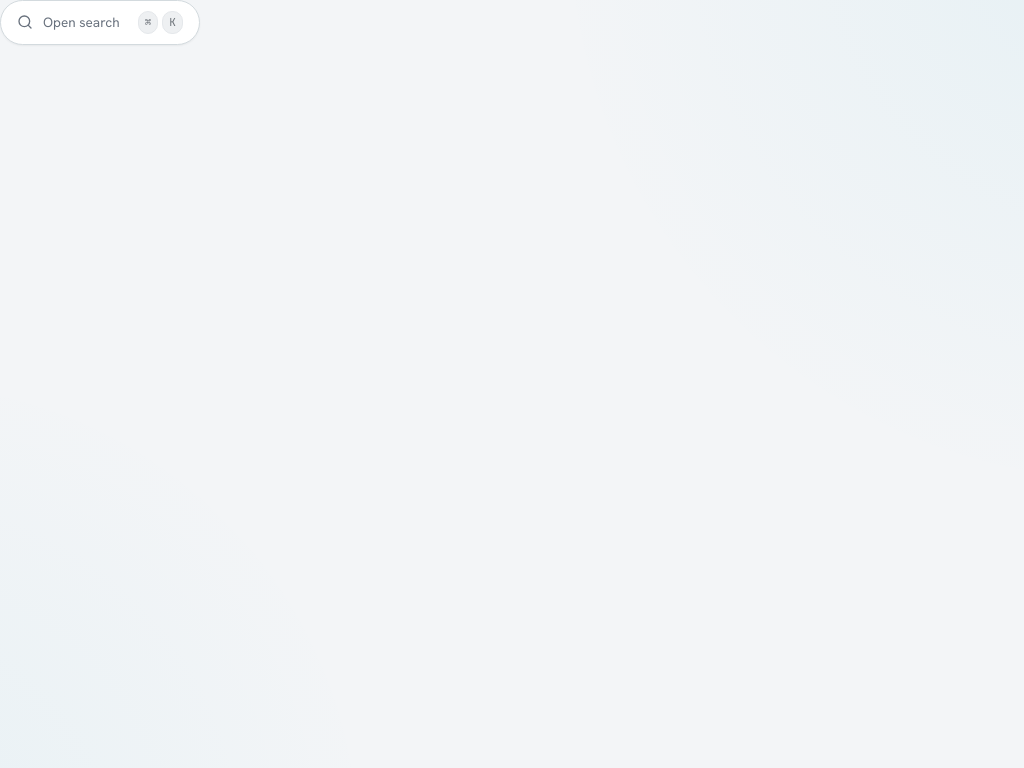
Test: CommandPalette listbox/option roles (ISSUE-226) › exposes each result row with the option role
Click the button "Open search ⌘ K".
click(100, 22)  # box left=0, top=0, right=200, bottom=44
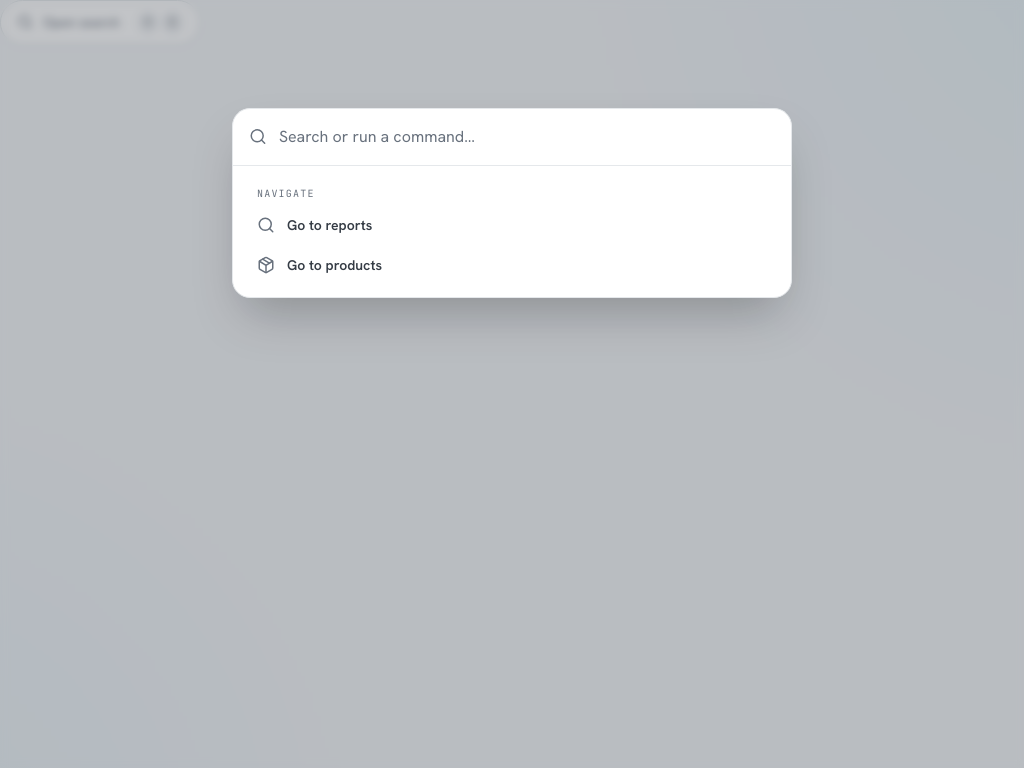
Now the option "Go to reports" is shown, box left=245, top=204, right=779, bottom=244
Now the option "Go to products" is shown, box left=245, top=244, right=779, bottom=284
